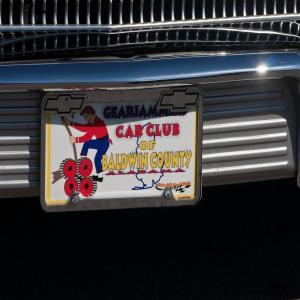Vehicle-registration-plate: (43, 95, 201, 205)
